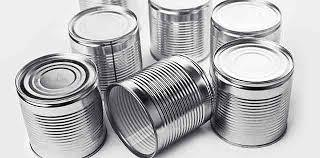Tin: (4, 1, 320, 151)
